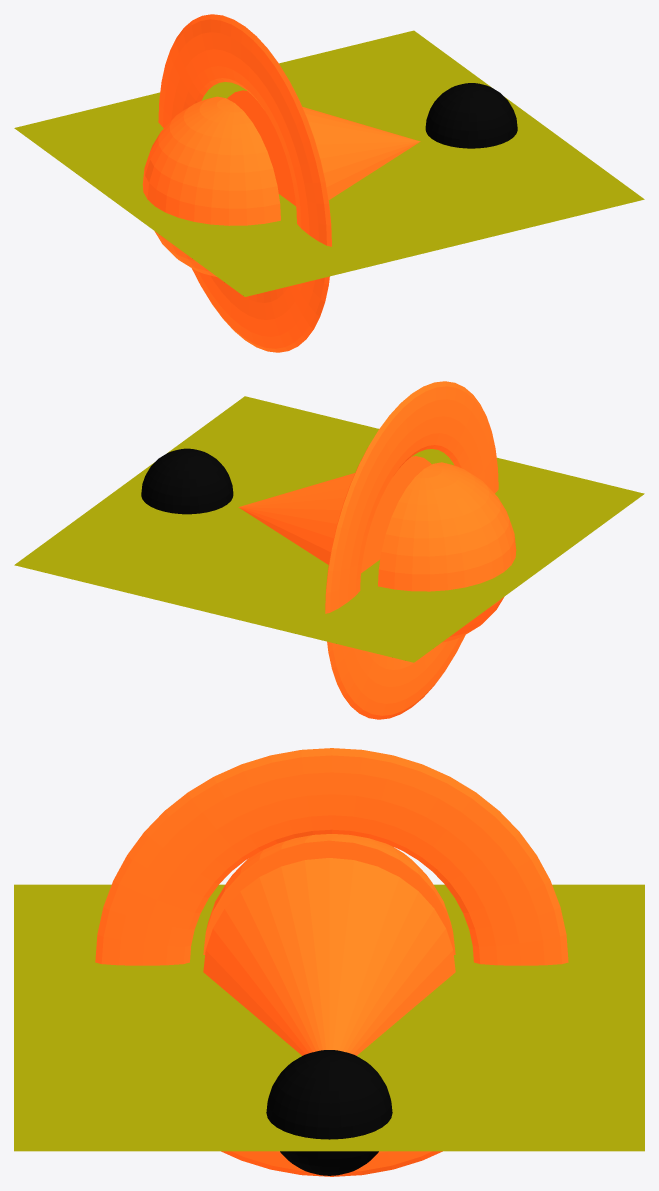
Rendered from background.gltf.
The picture shows the model from 3 angles, top to bottom: view 1: azimuth 30°, elevation 25°; view 2: azimuth 150°, elevation 25°; view 3: azimuth 270°, elevation 25°; orthographic projection. The views are drawn at different scales.
Visible parts, largest first — view 1: Cube, Torus.001, Sphere.001, Cone, Sphere; view 2: Cube, Torus.001, Sphere.001, Cone, Sphere; view 3: Cube, Torus.001, Cone, Sphere, Sphere.001.
Part boxes in pixels (box(x1,y1,x2,y2)): Cube: box(14, 30, 644, 296); Torus.001: box(158, 14, 331, 352); Sphere.001: box(142, 96, 280, 276); Cone: box(227, 90, 420, 205); Sphere: box(425, 83, 517, 148); Cube: box(14, 396, 644, 662); Torus.001: box(325, 381, 498, 719); Sphere.001: box(378, 462, 516, 642); Cone: box(238, 456, 431, 573); Sphere: box(141, 448, 233, 514); Cube: box(14, 884, 644, 1151); Torus.001: box(95, 748, 568, 1176); Cone: box(203, 858, 455, 1055); Sphere: box(266, 1050, 392, 1175); Sphere.001: box(203, 834, 455, 954).
Size of the model in its own units: 200 by 150 by 200.
